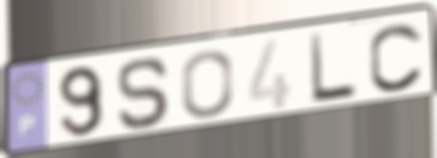4: (246, 37, 295, 111)
9: (56, 62, 107, 143)
C: (367, 20, 426, 94)
L: (307, 30, 360, 107)
O: (179, 48, 236, 122)
S: (114, 54, 174, 132)
